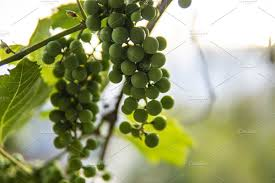grapes: (89, 3, 171, 152), (46, 42, 99, 177)
